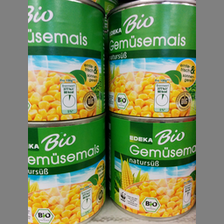corn: (106, 1, 195, 120), (105, 113, 194, 220), (28, 1, 106, 121), (28, 117, 107, 223)
